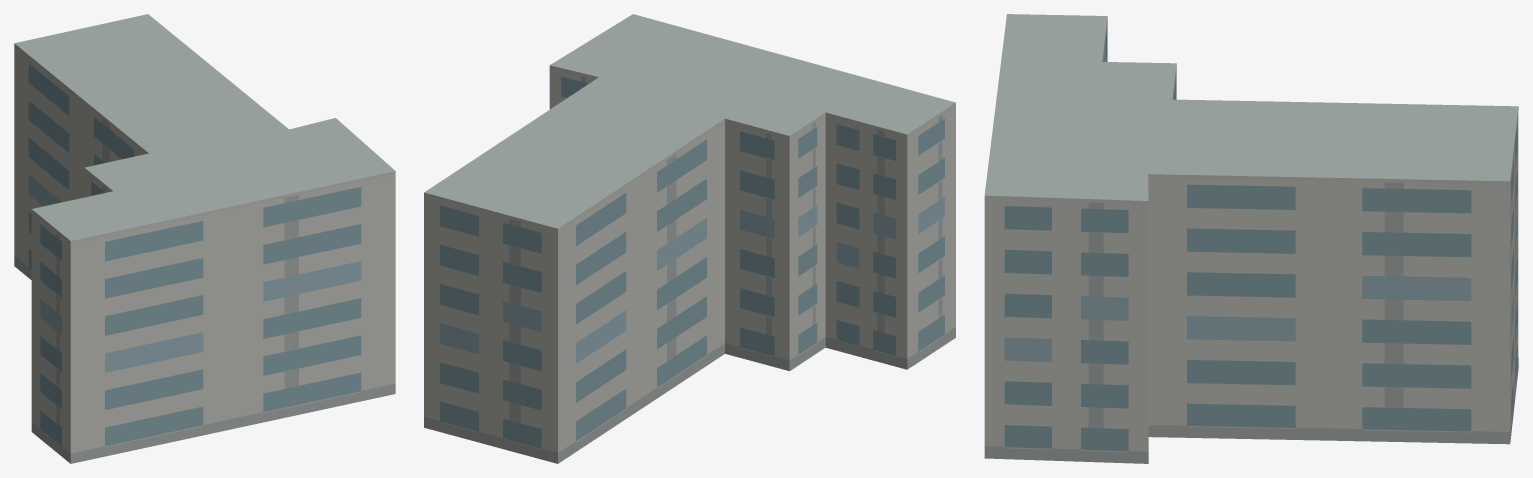
File: residential-dc420aa8-fce7-4463-95d4-935a4fde111f.glb
3 views of the same model, side by side, from view 1: azimuth 30°, elevation 25°; view 2: azimuth 150°, elevation 25°; view 3: azimuth 270°, elevation 25° (orthographic). The views are drawn at different scales.
Parts seen in each view (by area): view 1: residential-dc420aa8-fce7-4463-95d4-935a4fde111f.tmp; view 2: residential-dc420aa8-fce7-4463-95d4-935a4fde111f.tmp; view 3: residential-dc420aa8-fce7-4463-95d4-935a4fde111f.tmp.
Part boxes in pixels (<box>): residential-dc420aa8-fce7-4463-95d4-935a4fde111f.tmp: <box>14,14,395,463</box>; residential-dc420aa8-fce7-4463-95d4-935a4fde111f.tmp: <box>424,14,955,463</box>; residential-dc420aa8-fce7-4463-95d4-935a4fde111f.tmp: <box>984,14,1518,463</box>.
Bounding box in the file's own units: 27.94 × 18.3 × 33.7.
